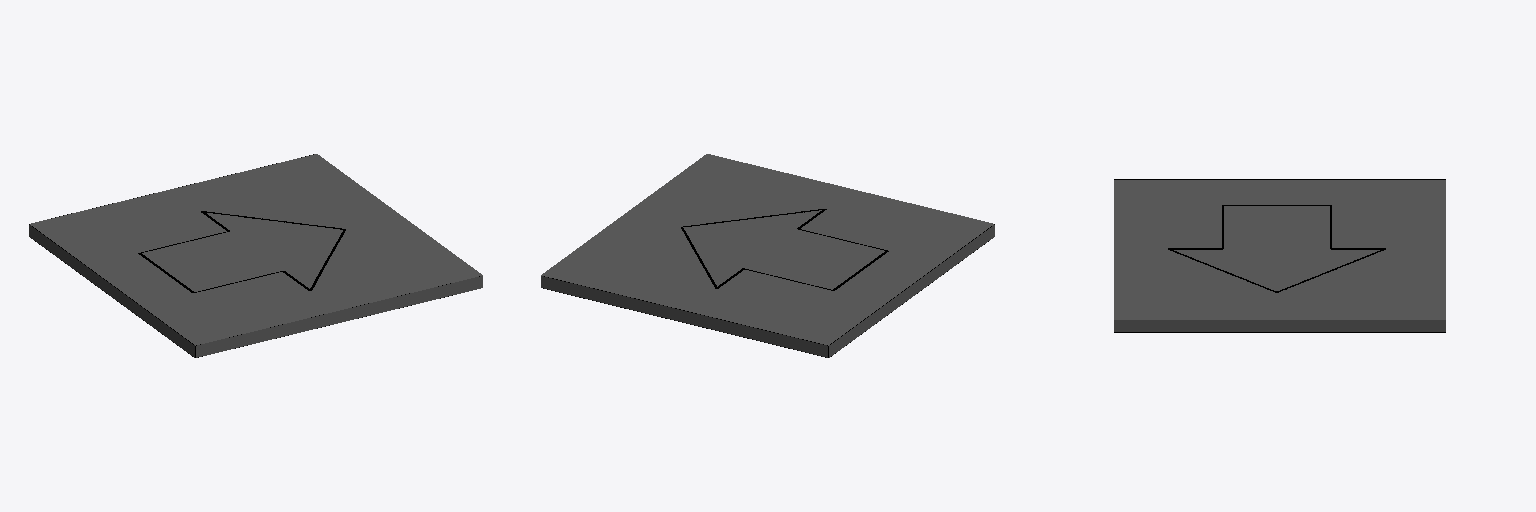
3 renders of one model, left to right at view 1: azimuth 30°, elevation 25°; view 2: azimuth 150°, elevation 25°; view 3: azimuth 270°, elevation 25°, orthographic.
Parts seen in each view (by area): view 1: Air_tile_Cube.008; view 2: Air_tile_Cube.008; view 3: Air_tile_Cube.008.
Boxes of the visible parts, <box> form: Air_tile_Cube.008: <box>29,154,482,357</box>; Air_tile_Cube.008: <box>541,154,994,357</box>; Air_tile_Cube.008: <box>1114,179,1445,332</box>.
Bounding box in the file's own units: 6 × 0.25 × 6.
Materials: 1 (1 with a texture image).